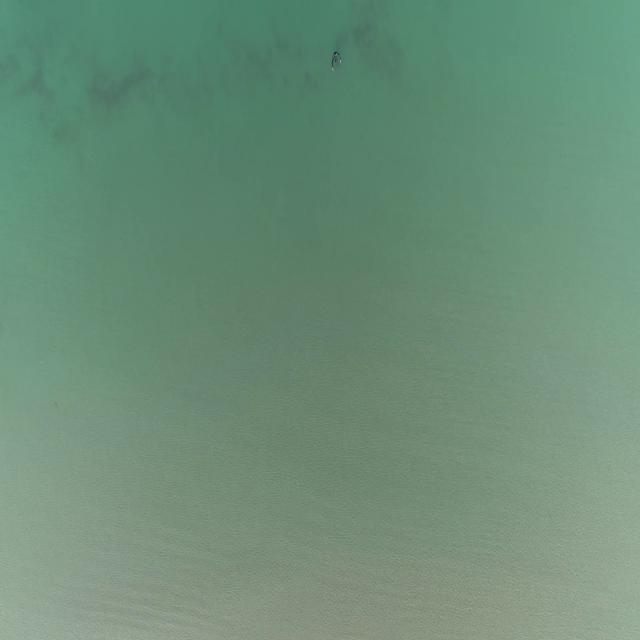person: (330, 51, 343, 70)
